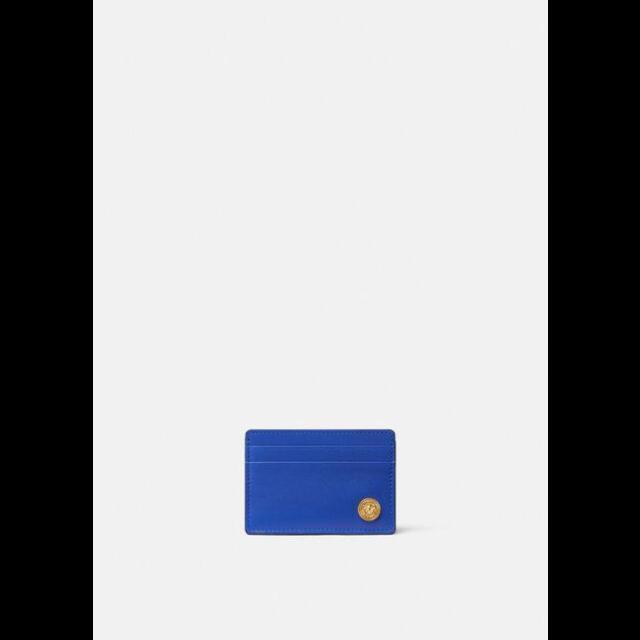wallet: (239, 424, 399, 542)
